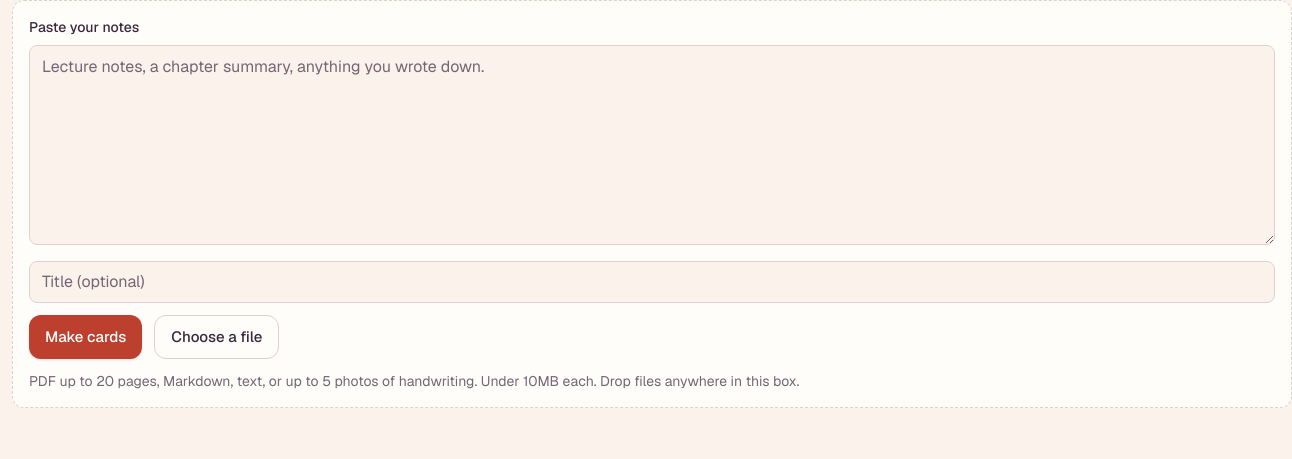
Scenario: UploadDropzone › asks for text before making cards from an empty paste
The width and height of the screenshot is (1292, 459).
Step 1. Click the button "Make cards" → (86, 337), box [29,315,142,359]
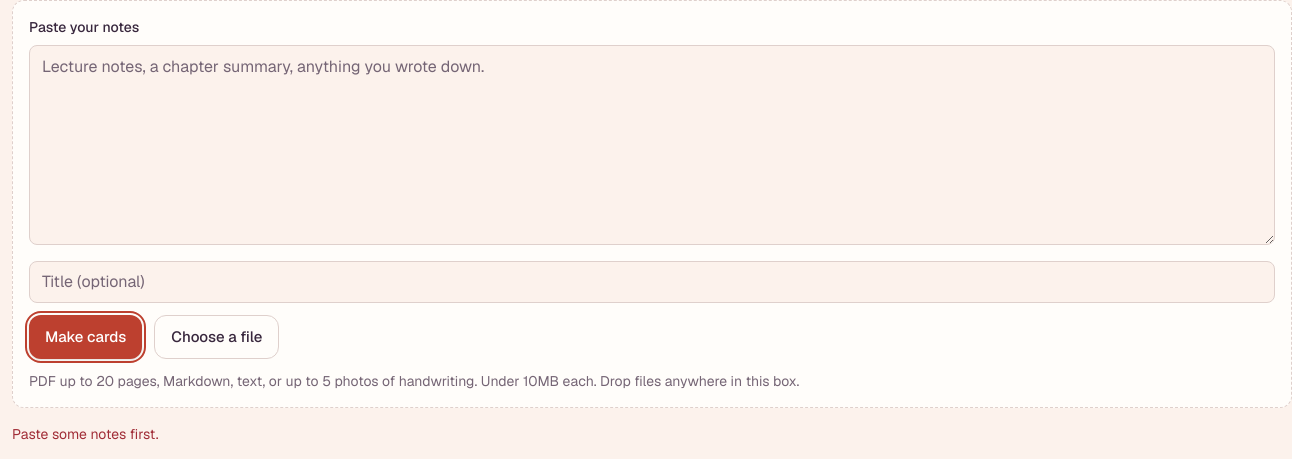
expect the message reads "Paste some notes first.": met, box [12,425,158,443]
